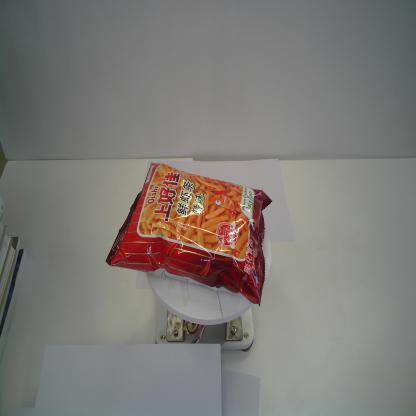Puffed Food: (106, 162, 274, 306)
